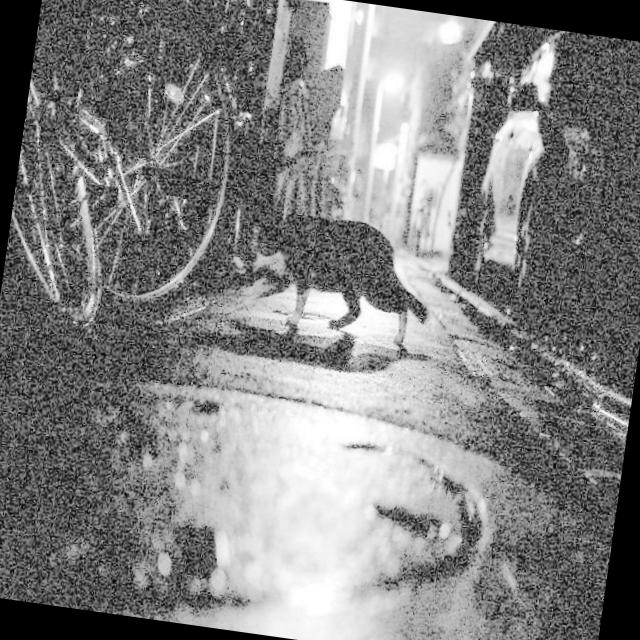Bicycle: (0, 0, 266, 354)
Car: (451, 39, 640, 388)
Cat: (273, 178, 442, 381)
